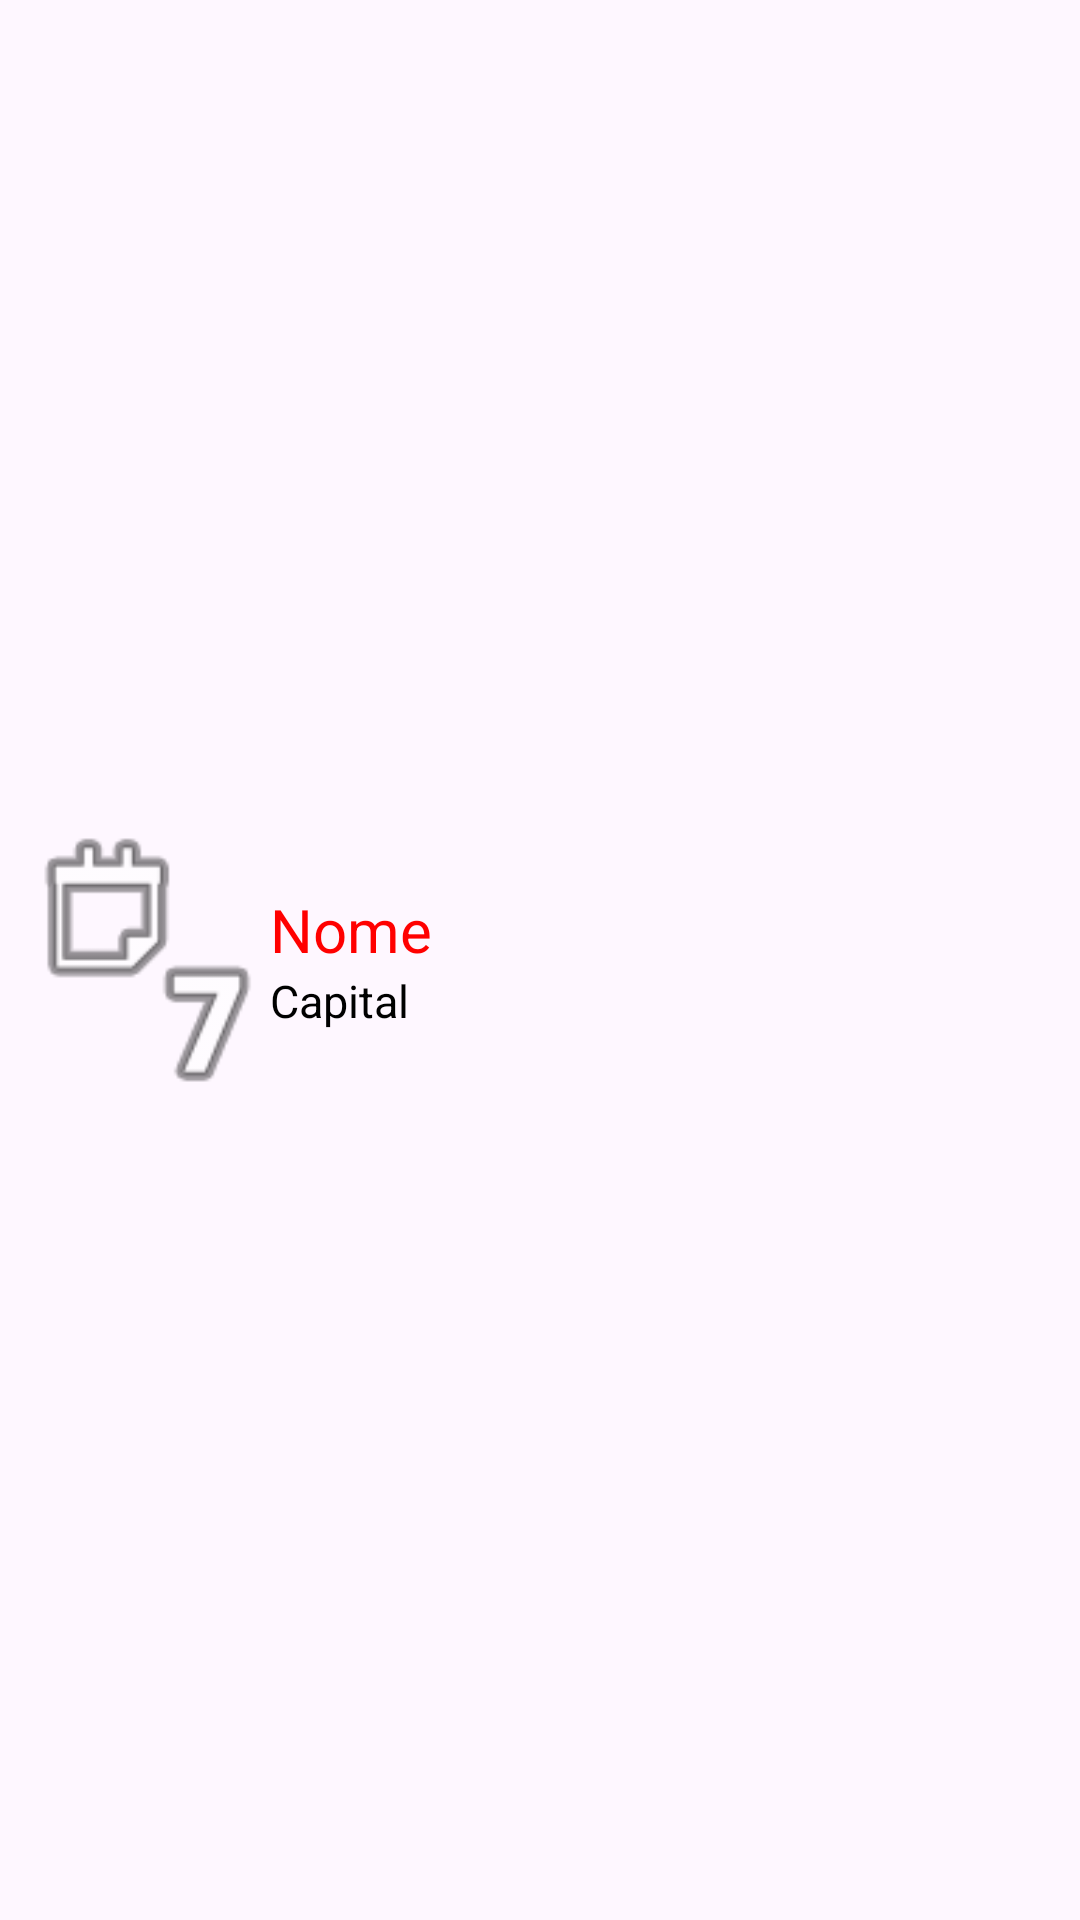

Named icons in this screenshot (1080×1920) and their bounding boxes, (x1, y1, x2, y2):
week: (45, 838, 250, 1082)
